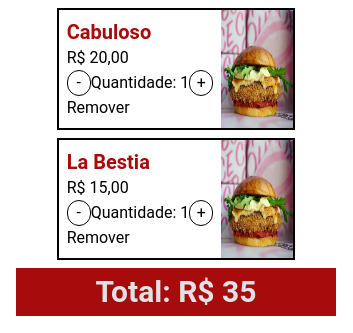
Scenario: Product cart. › Button add.
The width and height of the screenshot is (353, 333).
Expected: the number of elements with test id "quantity" is 2, [91,73,189,92]; [91,203,189,222]
Expected: the text with test id "quantity" below "20" reads "Quantidade: 1", [91,73,189,92]
Click the button with test id "addQuantity" below "20" at (201, 83), box [189,70,213,96]
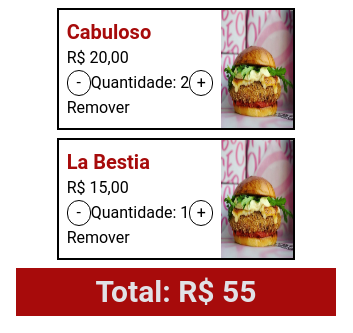
Expected: the text with test id "quantity" reads "Quantidade: 2", [91,73,189,92]
